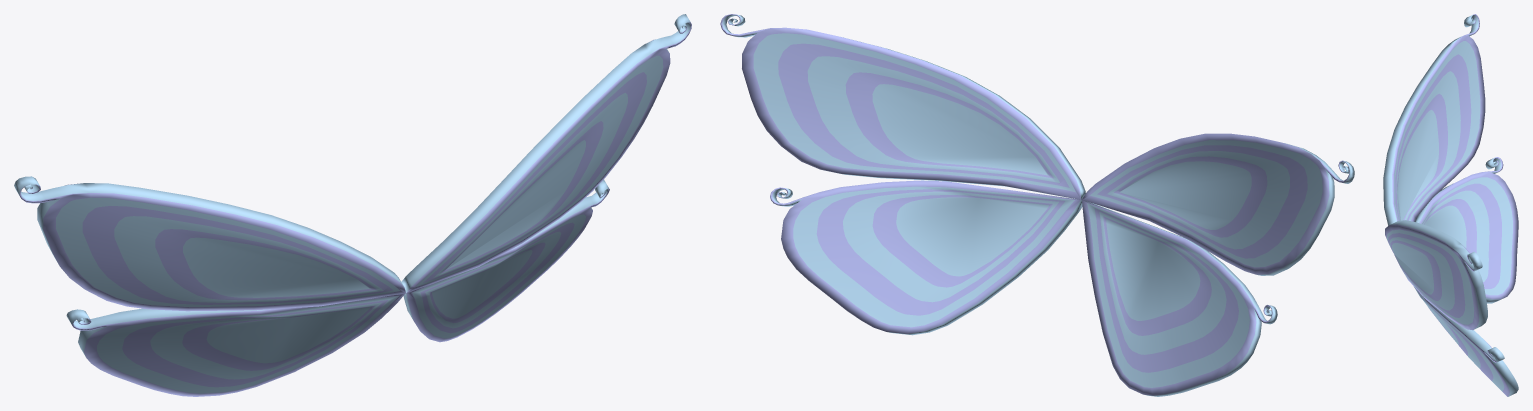
The model's file is siivet1.fbx.
3 views of the same model, side by side, from view 1: azimuth 30°, elevation 25°; view 2: azimuth 150°, elevation 25°; view 3: azimuth 270°, elevation 25° (orthographic). The views are drawn at different scales.
Parts seen in each view (by area): view 1: Plane.001; view 2: Plane.001; view 3: Plane.001.
Part boxes in pixels (x1=…): Plane.001: x1=14, y1=14, x2=691, y2=396; Plane.001: x1=720, y1=14, x2=1354, y2=396; Plane.001: x1=1383, y1=14, x2=1518, y2=396.
Bounding box in the file's own units: 1.33 × 0.535 × 0.3129.
